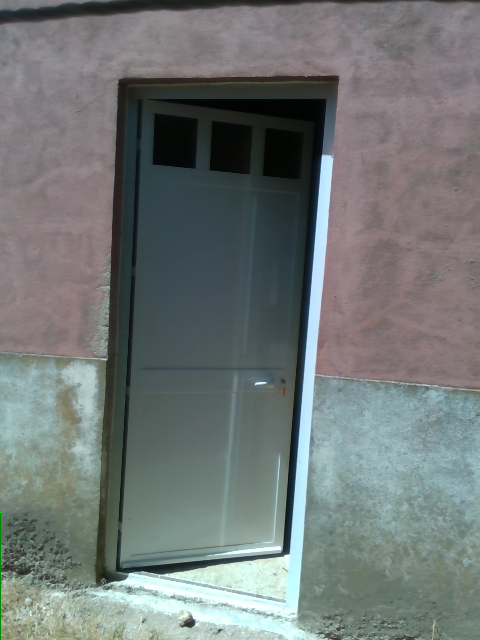semi: (96, 79, 335, 616)
